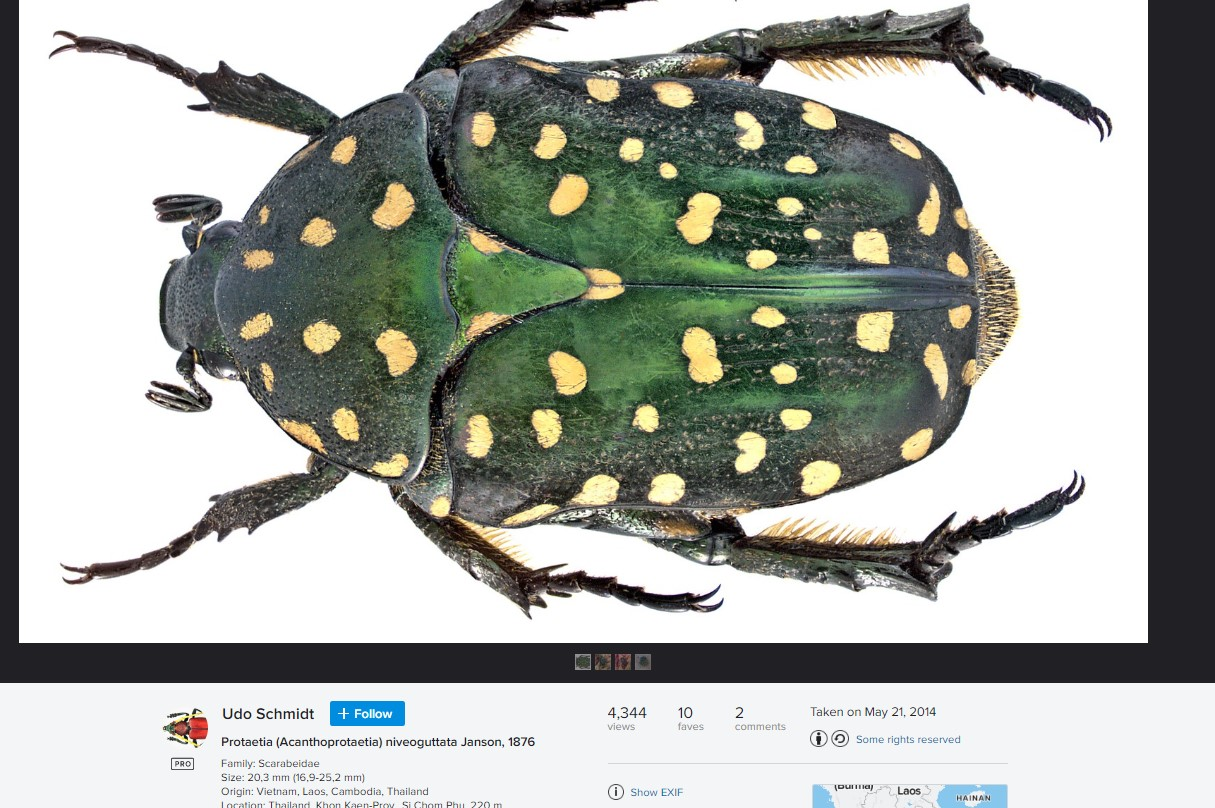Protaetia_niveoguttata: (37, 16, 1088, 628)
